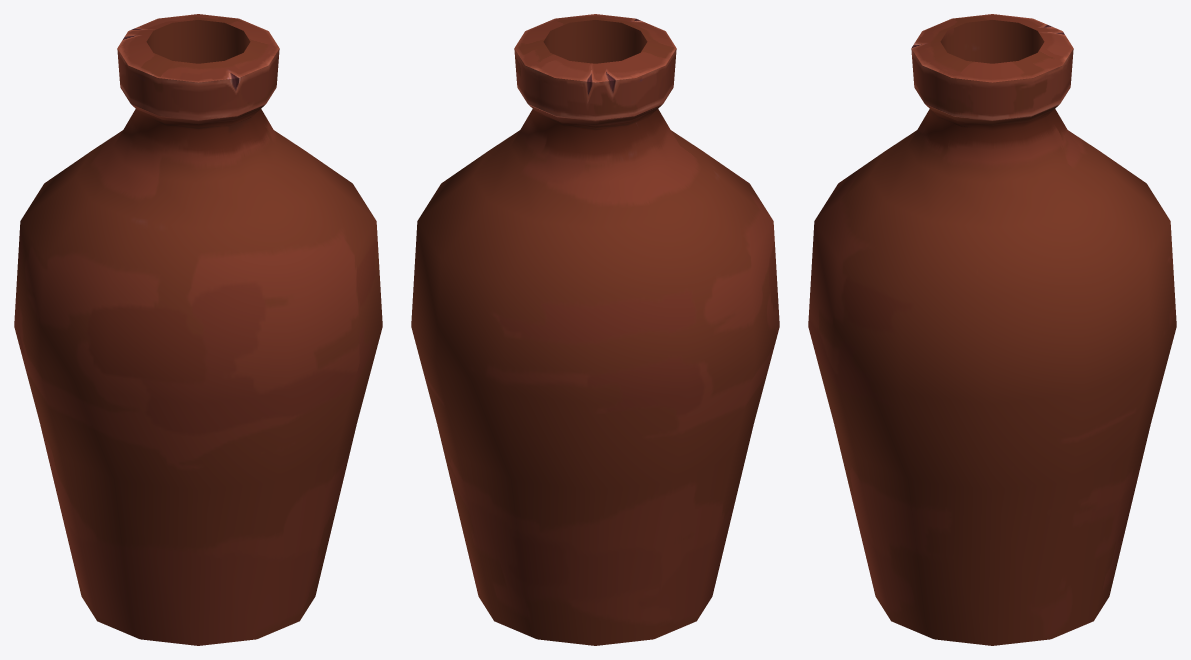
Rendered from SM_PROP_pot_interior_03.fbx.
3 renders of one model, left to right at view 1: azimuth 30°, elevation 25°; view 2: azimuth 150°, elevation 25°; view 3: azimuth 270°, elevation 25°, orthographic.
Visible parts, largest first — view 1: SM_PROP_pot_interior_03; view 2: SM_PROP_pot_interior_03; view 3: SM_PROP_pot_interior_03.
Part boxes in pixels (bbox=[...]): SM_PROP_pot_interior_03: bbox=[14, 14, 382, 645]; SM_PROP_pot_interior_03: bbox=[411, 14, 779, 645]; SM_PROP_pot_interior_03: bbox=[808, 14, 1176, 645].
Bounding box in the file's own units: 35.69 × 60.24 × 35.69.
